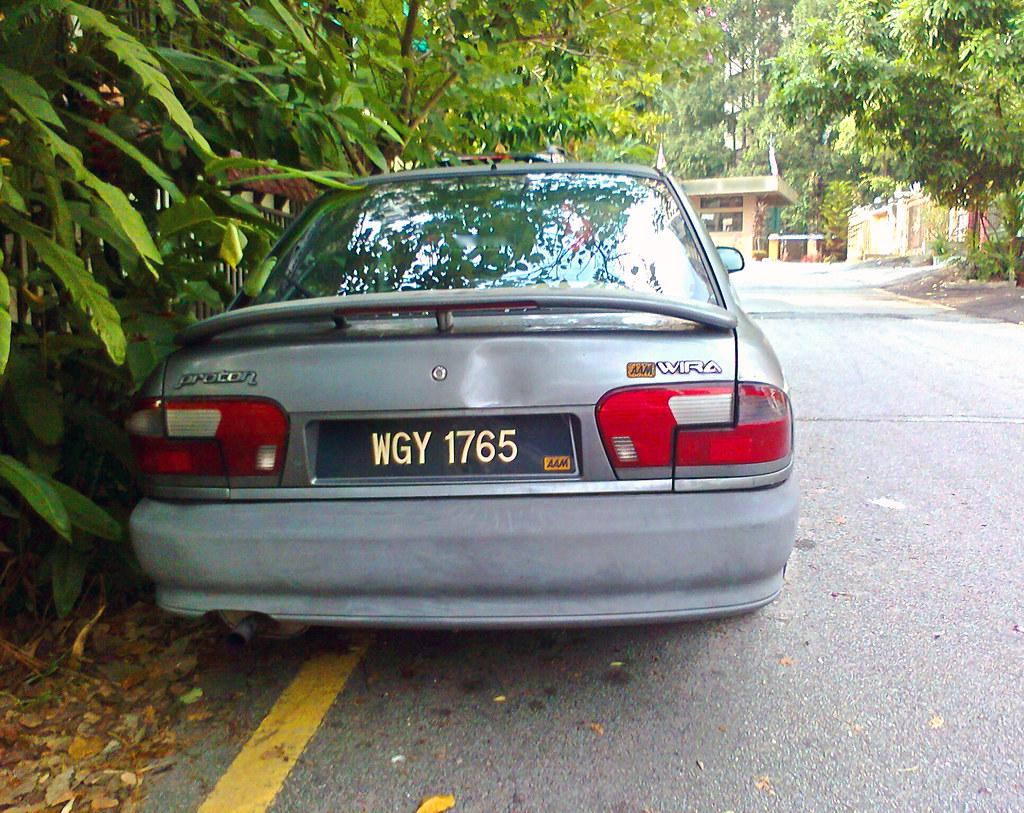boot-dent: (365, 344, 666, 500)
